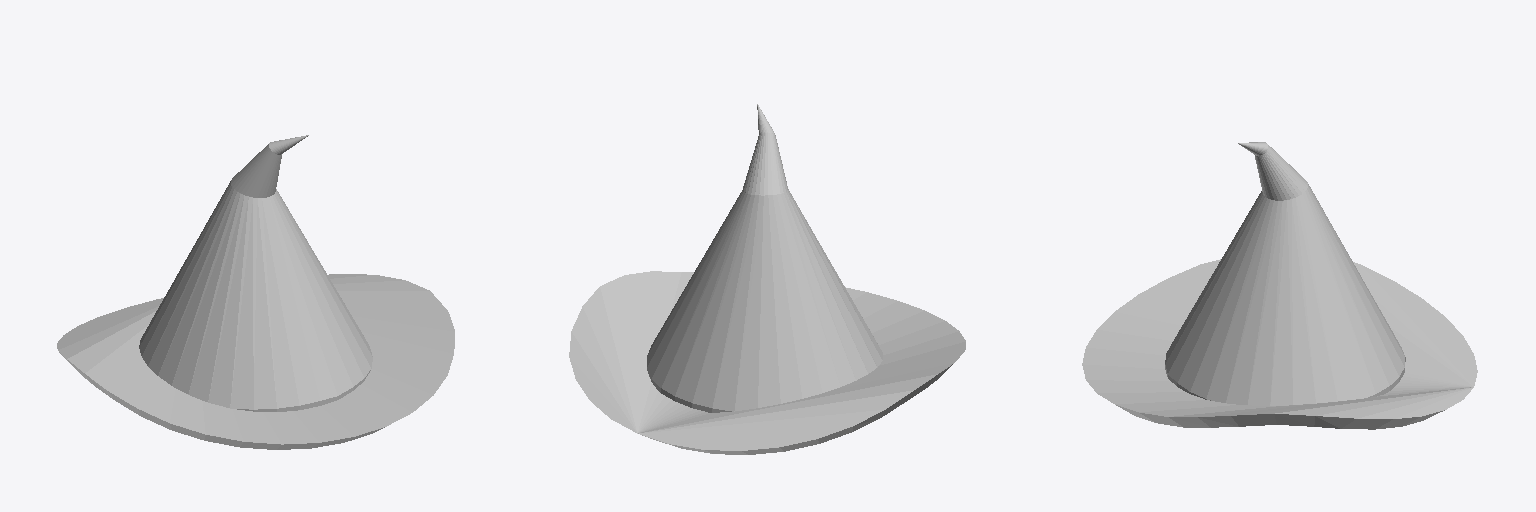
File: Hat.obj
3 renders of one model, left to right at view 1: azimuth 30°, elevation 25°; view 2: azimuth 150°, elevation 25°; view 3: azimuth 270°, elevation 25°, orthographic.
Parts seen in each view (by area): view 1: Cone, Cylinder; view 2: Cone, Cylinder; view 3: Cone, Cylinder.
Part boxes in pixels (bbox=[...]): Cone: bbox=[139, 135, 372, 411]; Cylinder: bbox=[57, 274, 454, 449]; Cone: bbox=[647, 104, 882, 412]; Cylinder: bbox=[569, 271, 965, 454]; Cone: bbox=[1165, 142, 1405, 405]; Cylinder: bbox=[1082, 259, 1477, 429].
Bounding box in the file's own units: 2 × 1.44 × 2.